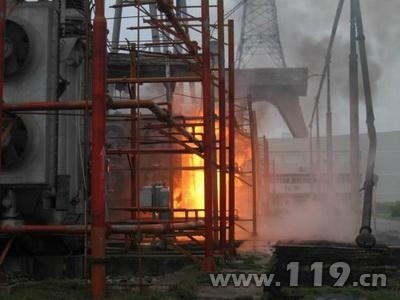fire: (175, 106, 248, 222)
